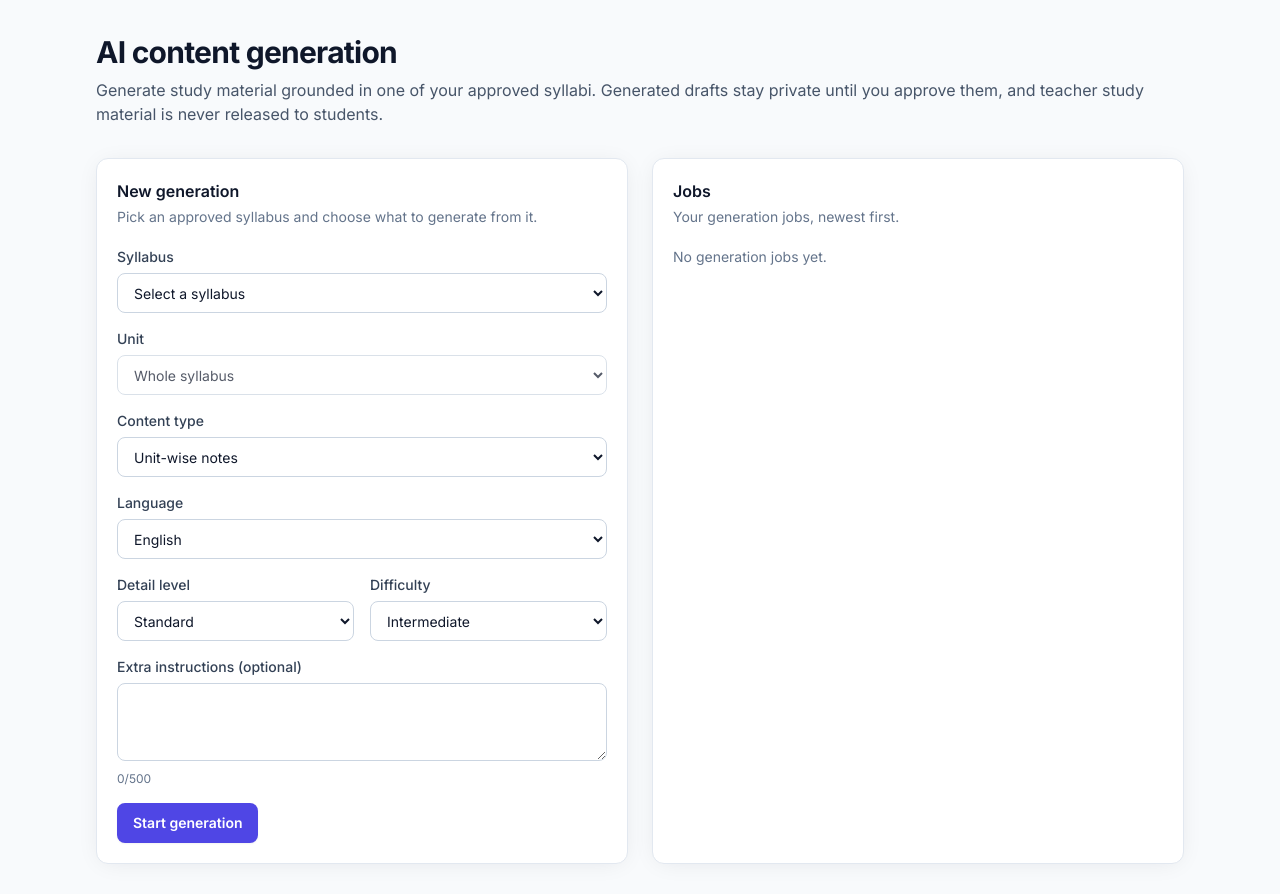
Test case: TeacherContent › never offers to release teacher-only material
Select "CS101 · SEC-A (v2)" in the dropdown labelled "Syllabus" at (362, 293), box [117,273,607,313]
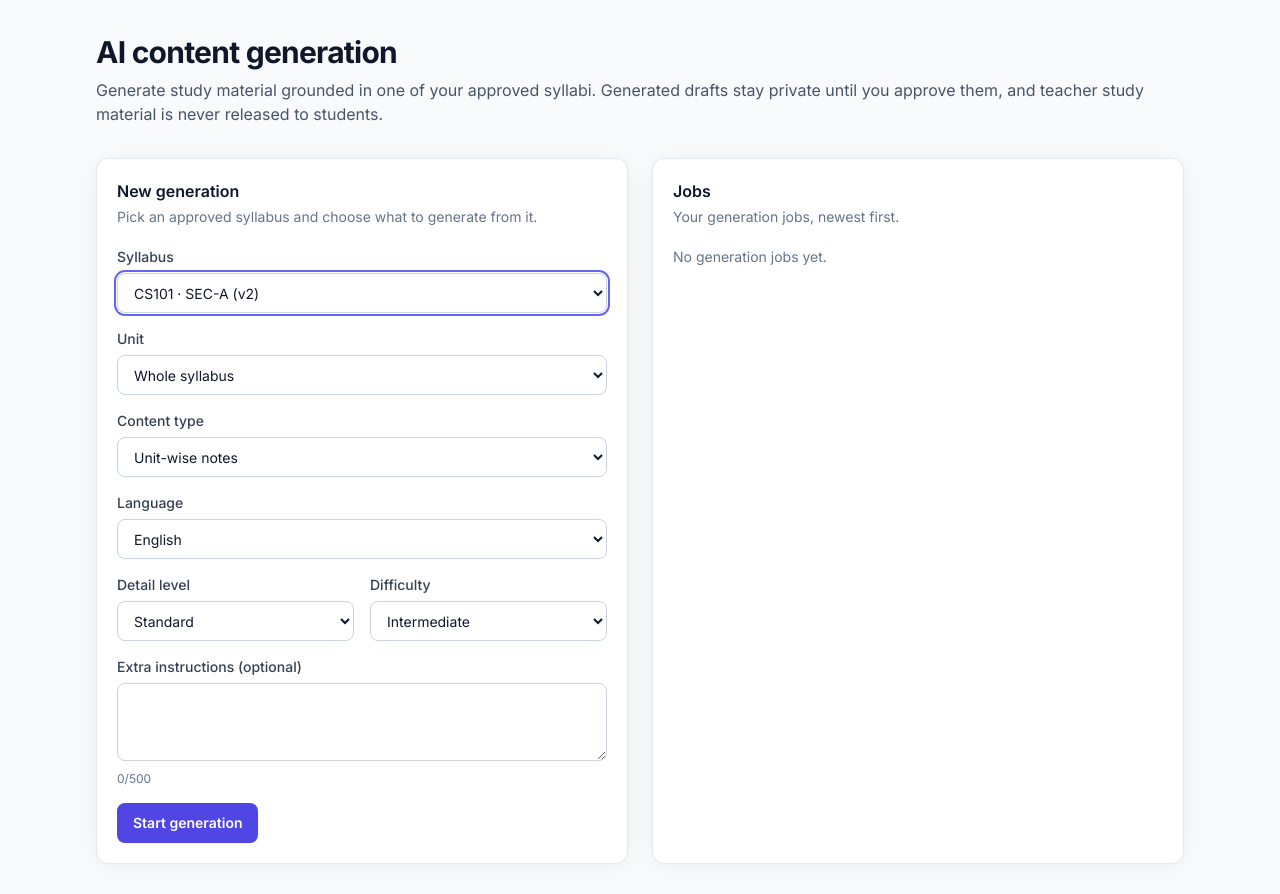
Click the button "Start generation" at (188, 823), box [117,803,258,843]
(page scrolled)
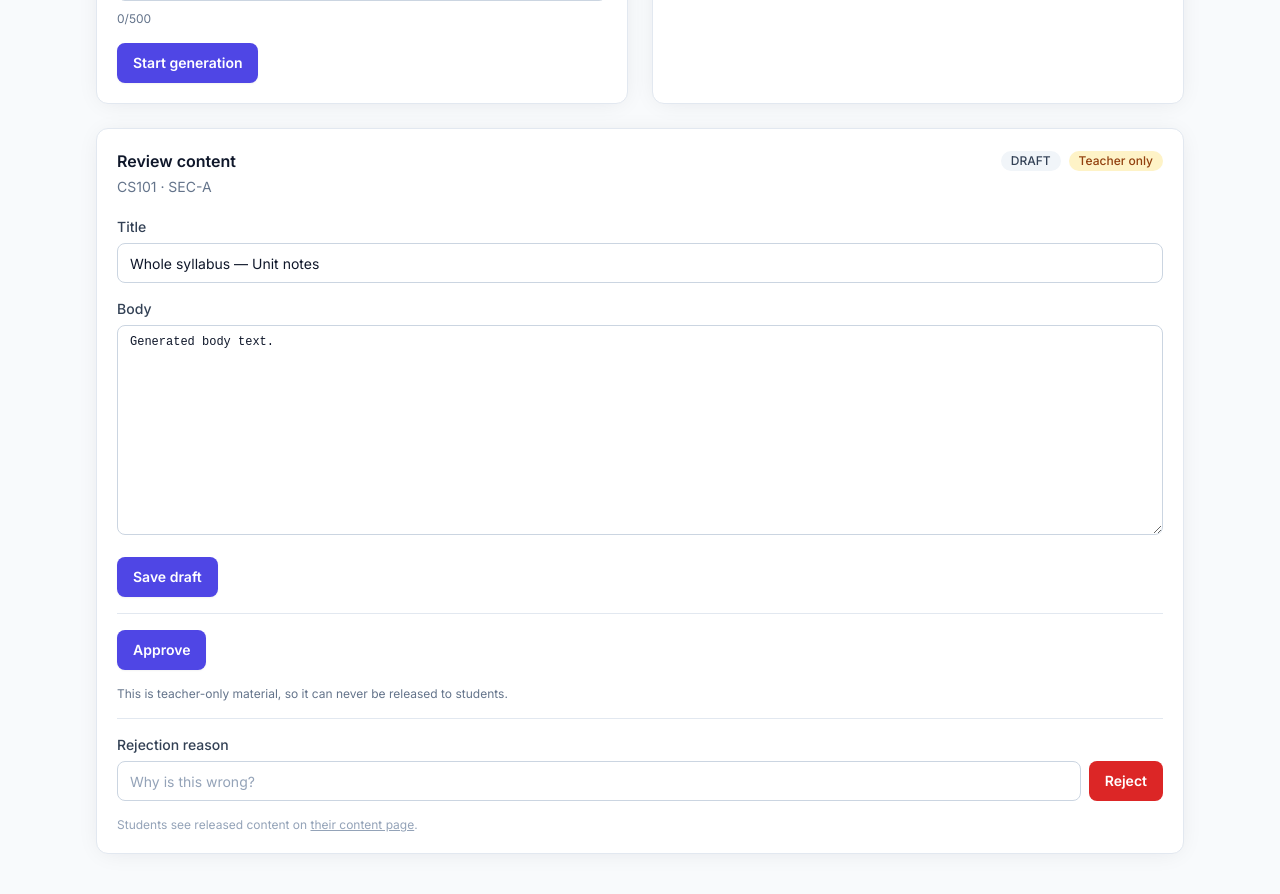
Check: the button "Approve" is shown, box [117,630,206,670]
Check: the text "never be released to students" is shown, box [117,686,508,701]
